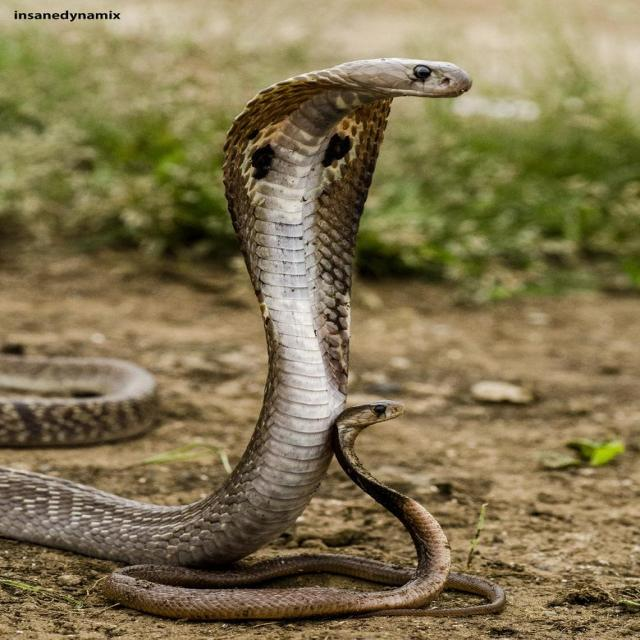Snake: (94, 397, 507, 622)
